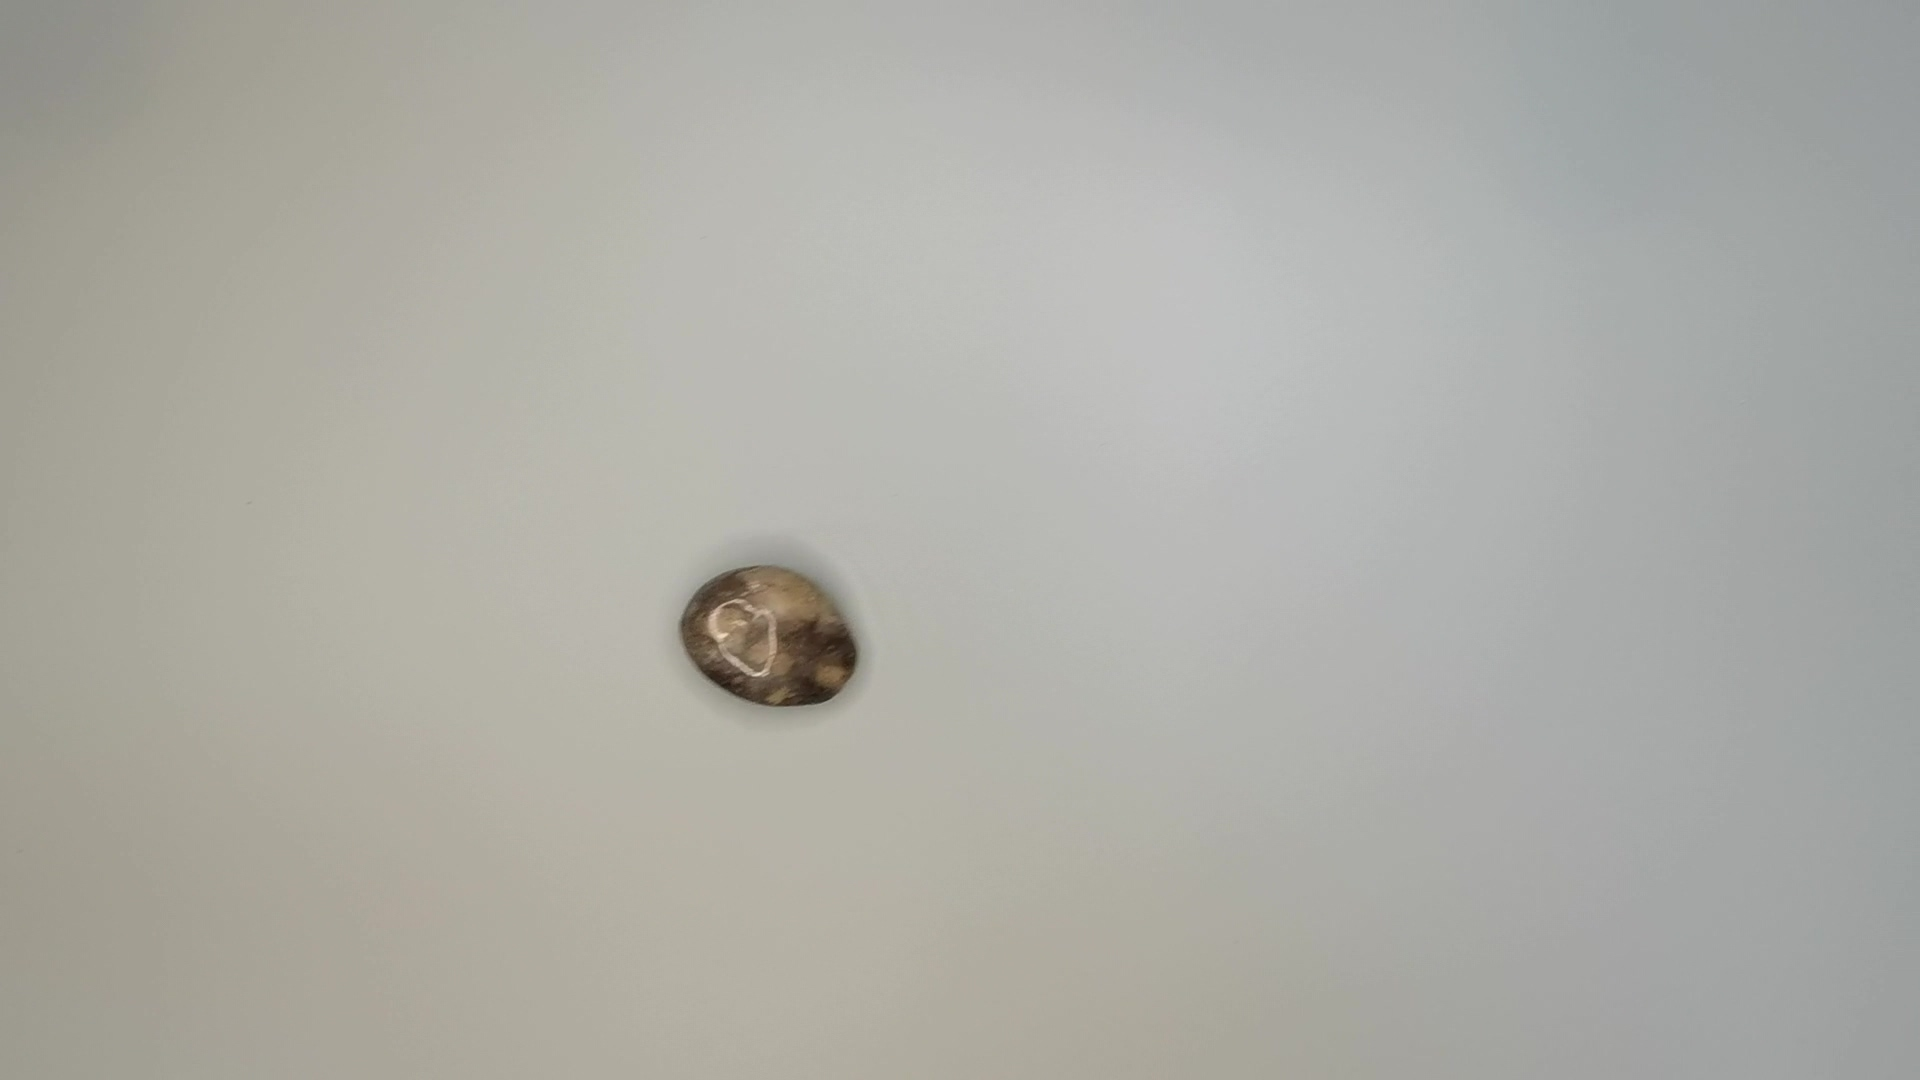ceramic: (674, 558, 873, 719)
